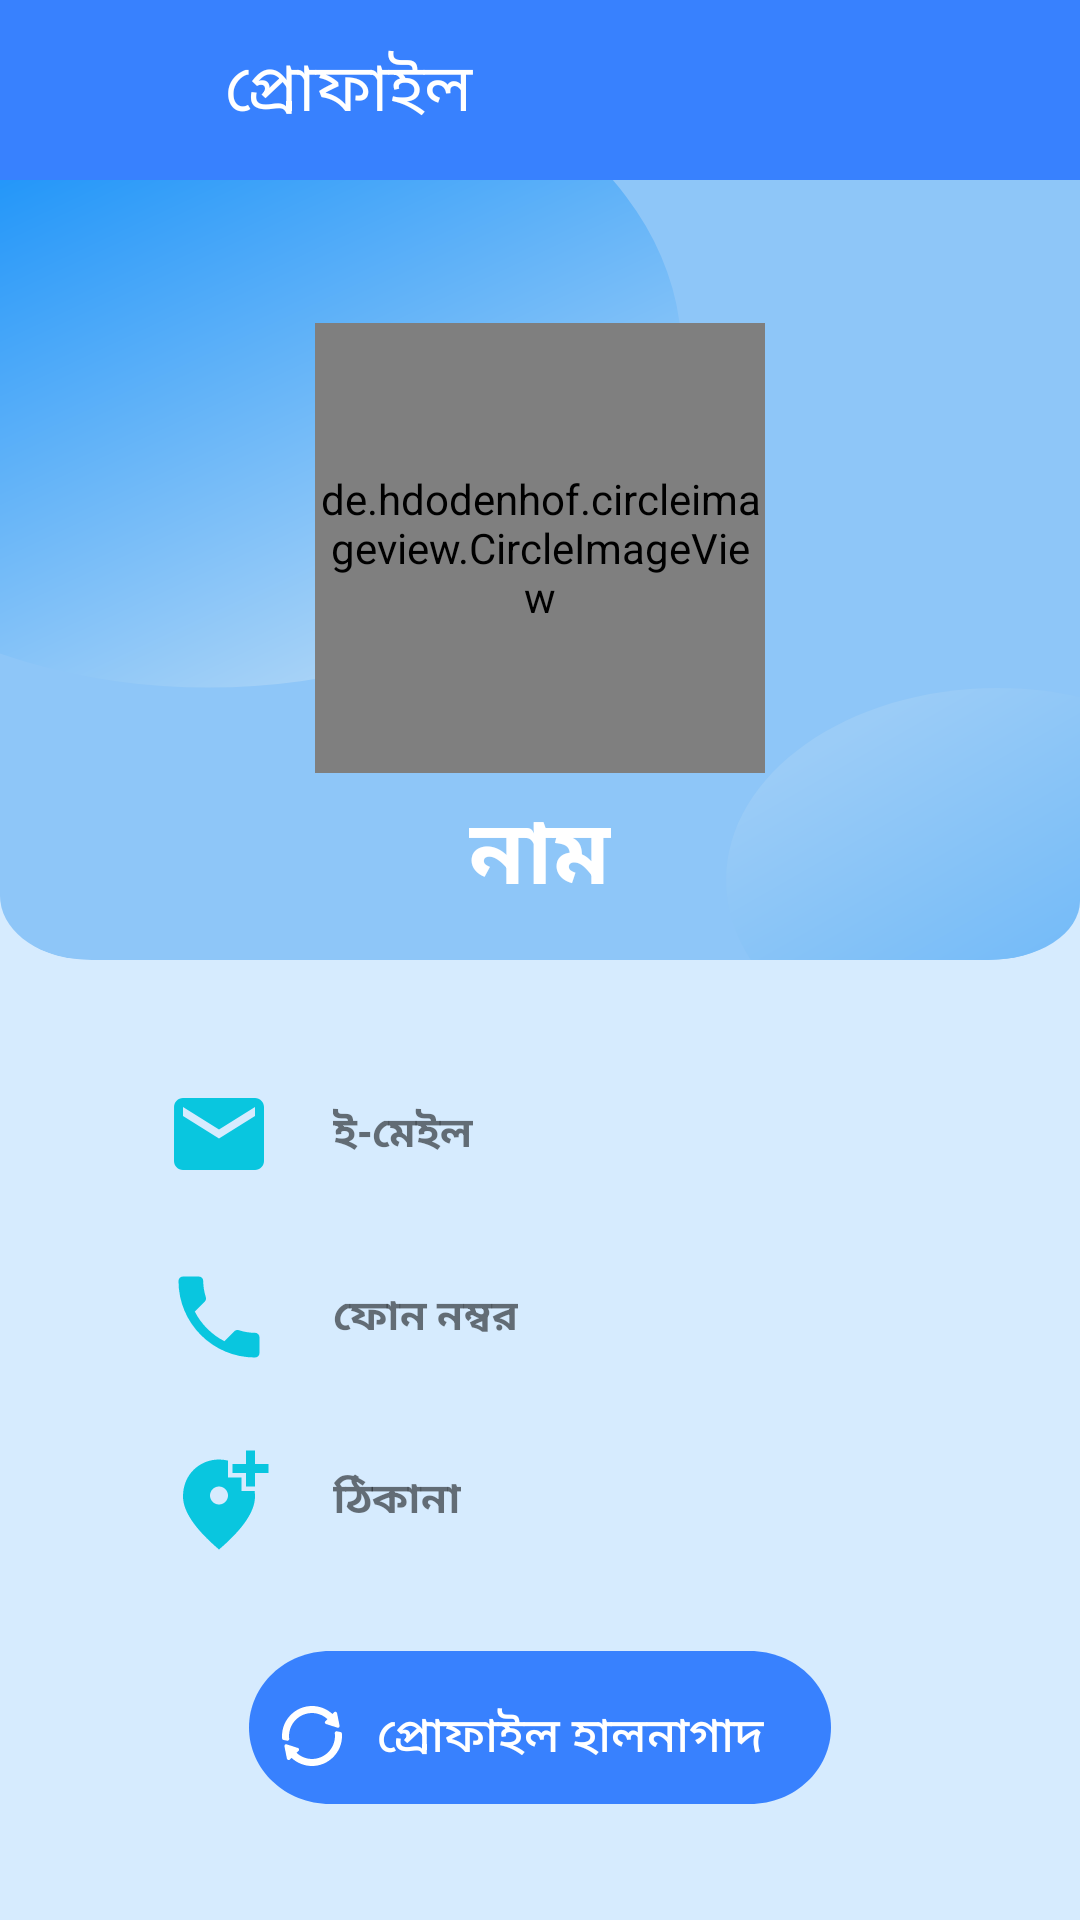

Icon bounding boxes for this 1080px x 1920px phone screenshot, format [x1,y1,x2,y2]:
add location profile: [183,1450,269,1550]
email: [174,1098,264,1170]
phone pp: [178,1276,260,1358]
